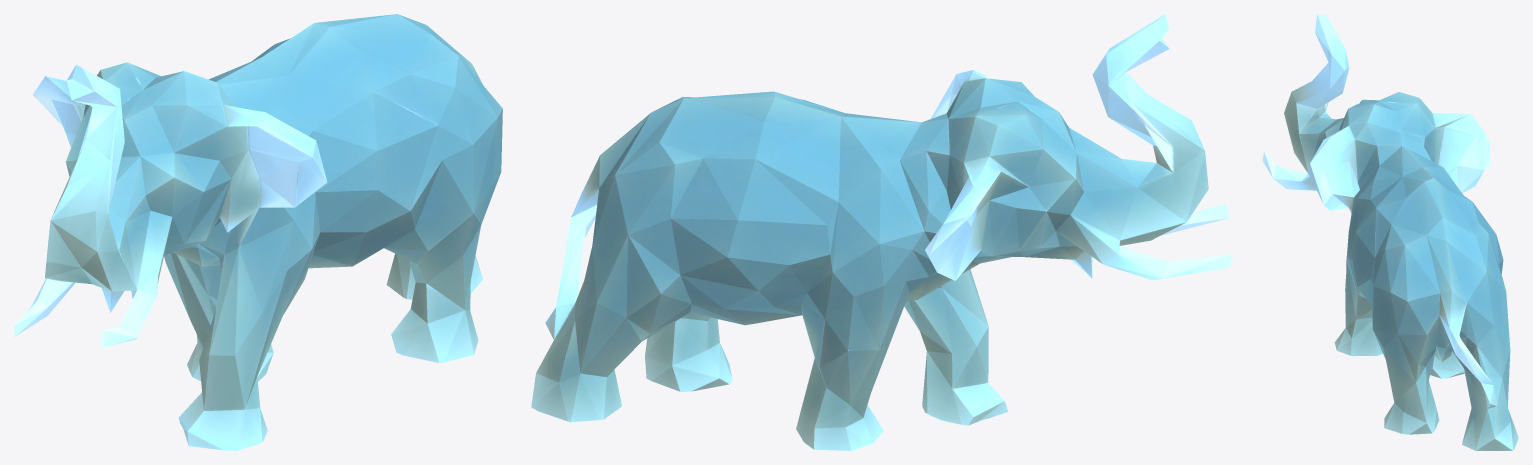
File: elephant_marbled-metal_2x_contrast1.glb
3 renders of one model, left to right at view 1: azimuth 30°, elevation 25°; view 2: azimuth 150°, elevation 25°; view 3: azimuth 270°, elevation 25°, orthographic. The views are drawn at different scales.
Visible parts, largest first — view 1: elephant Low Poly; view 2: elephant Low Poly; view 3: elephant Low Poly.
Part boxes in pixels (box(x1,y1,x2,y2)): elephant Low Poly: box(14, 14, 502, 450); elephant Low Poly: box(531, 14, 1233, 450); elephant Low Poly: box(1262, 14, 1518, 450).
Size of the model in its own units: 4.26 by 2.94 by 2.48.
